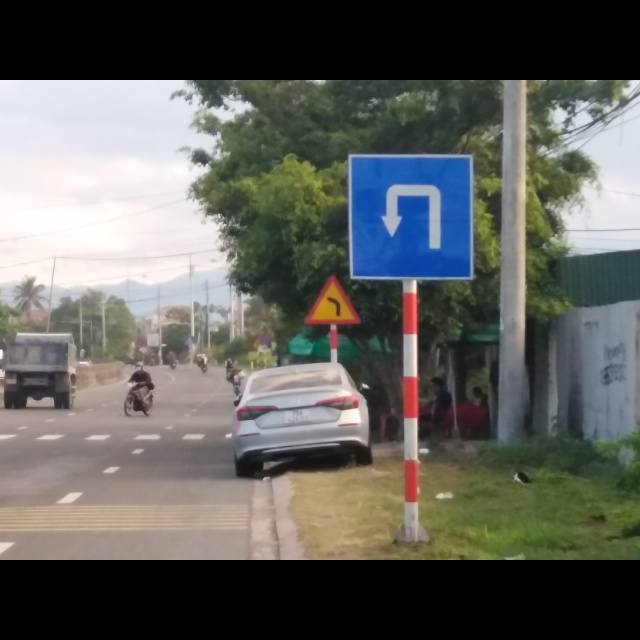Khu vực quay đầu xe: (345, 152, 476, 283)
